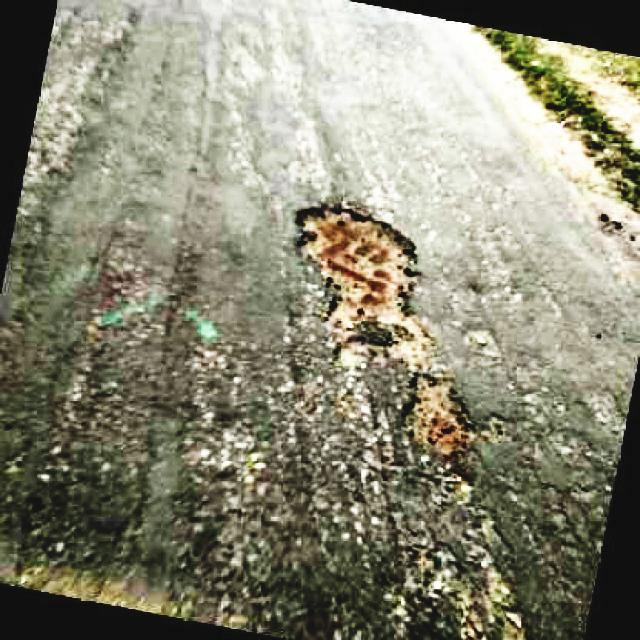pothole: (297, 205, 478, 452)
